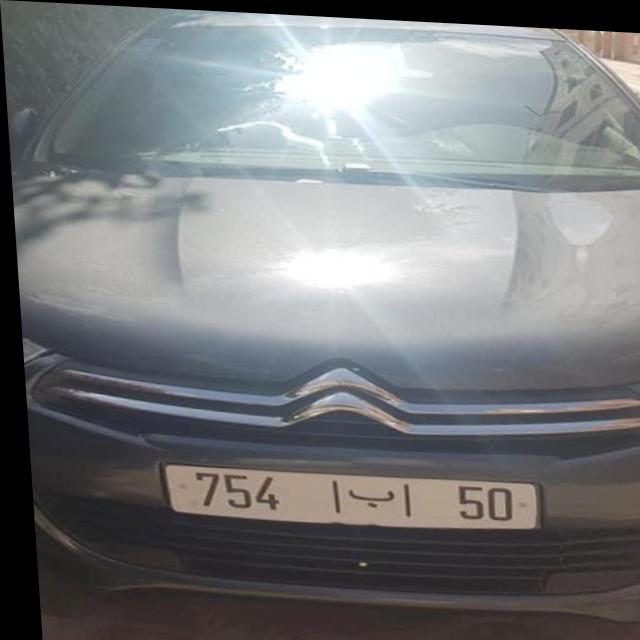License-Plate: (159, 463, 532, 525)
